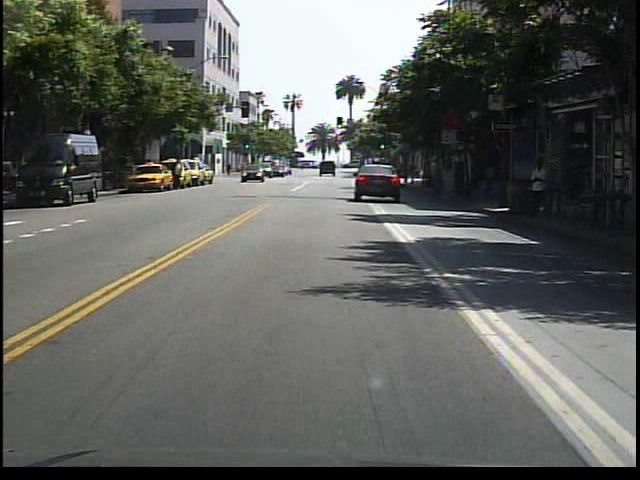person: (526, 151, 559, 224), (172, 157, 188, 194)
